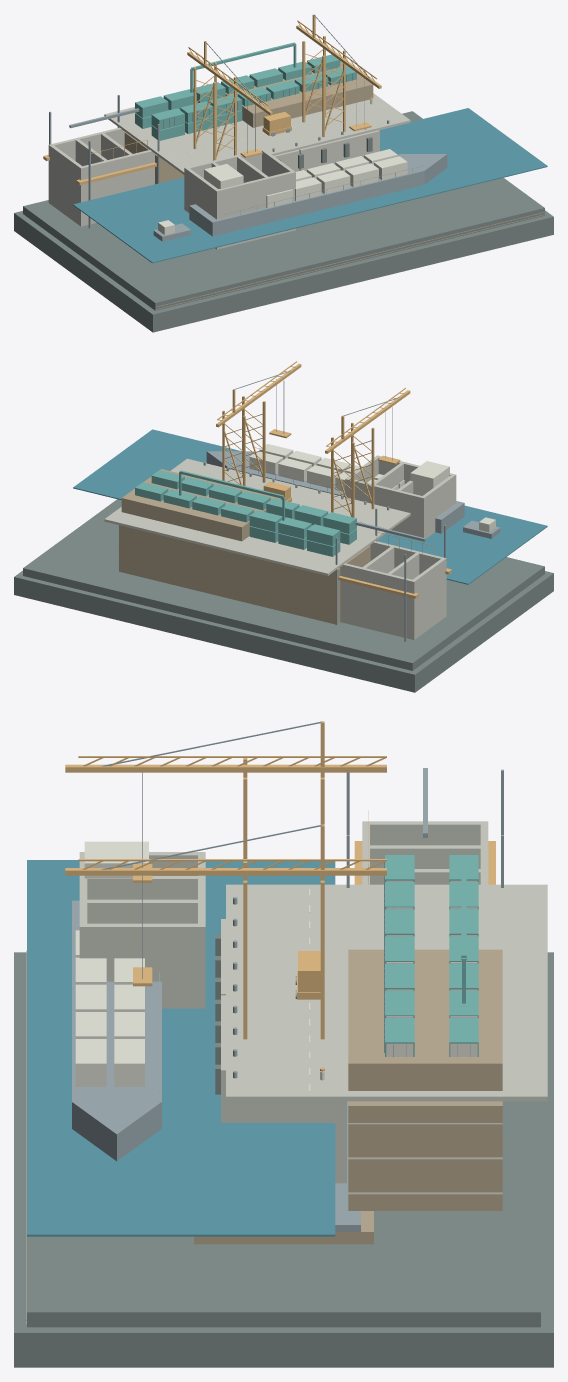
File: world-tuas.glb
3 renders of one model, top to bottom at view 1: azimuth 30°, elevation 25°; view 2: azimuth 150°, elevation 25°; view 3: azimuth 270°, elevation 25°, orthographic. The views are drawn at different scales.
Visible parts, largest first — view 1: stage-0-excavated-strata-, stage-0-water-section-water, stage-7-warm-concrete-deck, stage-8-infrastructure-teal-, stage-2-warm-concrete-fabrication, stage-8-structural-steel-, stage-7-safety-ochre-, stage-3-warm-concrete-tow, stage-8-porcelain-, stage-6-compacted-fill-preload, stage-4-warm-concrete-installed, stage-0-compacted-fill- (+6 smaller); view 2: stage-0-excavated-strata-, stage-5-compacted-fill-fill, stage-0-water-section-water, stage-7-warm-concrete-deck, stage-2-warm-concrete-fabrication, stage-8-infrastructure-teal-, stage-7-safety-ochre-, stage-3-warm-concrete-tow, stage-8-porcelain-, stage-6-compacted-fill-preload, stage-8-structural-steel-, stage-2-structural-steel- (+3 smaller); view 3: stage-0-excavated-strata-, stage-0-water-section-water, stage-7-warm-concrete-deck, stage-5-compacted-fill-fill, stage-6-compacted-fill-preload, stage-3-warm-concrete-tow, stage-8-porcelain-, stage-7-safety-ochre-, stage-8-infrastructure-teal-, stage-8-structural-steel-, stage-2-warm-concrete-fabrication, stage-4-warm-concrete-installed (+8 smaller).
Part boxes in pixels (left/top/right/bottom): stage-0-excavated-strata-: left=14, top=111, right=553, bottom=332; stage-0-water-section-water: left=73, top=108, right=547, bottom=263; stage-7-warm-concrete-deck: left=104, top=93, right=410, bottom=174; stage-8-infrastructure-teal-: left=135, top=54, right=356, bottom=140; stage-2-warm-concrete-fabrication: left=48, top=127, right=155, bottom=226; stage-8-structural-steel-: left=163, top=73, right=447, bottom=236; stage-7-safety-ochre-: left=187, top=14, right=381, bottom=160; stage-3-warm-concrete-tow: left=184, top=148, right=295, bottom=249; stage-8-porcelain-: left=204, top=99, right=407, bottom=208; stage-6-compacted-fill-preload: left=220, top=61, right=373, bottom=127; stage-4-warm-concrete-installed: left=274, top=130, right=379, bottom=171; stage-0-compacted-fill-: left=155, top=212, right=544, bottom=309; stage-0-excavated-strata-: left=14, top=499, right=553, bottom=692; stage-5-compacted-fill-fill: left=119, top=525, right=370, bottom=624; stage-0-water-section-water: left=73, top=429, right=547, bottom=584; stage-7-warm-concrete-deck: left=104, top=458, right=410, bottom=575; stage-2-warm-concrete-fabrication: left=339, top=541, right=446, bottom=639; stage-8-infrastructure-teal-: left=135, top=470, right=356, bottom=556; stage-7-safety-ochre-: left=216, top=361, right=410, bottom=517; stage-3-warm-concrete-tow: left=345, top=455, right=456, bottom=538; stage-8-porcelain-: left=249, top=444, right=449, bottom=495; stage-6-compacted-fill-preload: left=121, top=469, right=281, bottom=541; stage-8-structural-steel-: left=206, top=447, right=464, bottom=533; stage-2-structural-steel-: left=335, top=508, right=445, bottom=641; stage-0-excavated-strata-: left=14, top=952, right=553, bottom=1367; stage-0-water-section-water: left=27, top=860, right=335, bottom=1236; stage-7-warm-concrete-deck: left=226, top=884, right=547, bottom=1101; stage-5-compacted-fill-fill: left=348, top=1101, right=502, bottom=1210; stage-6-compacted-fill-preload: left=348, top=949, right=502, bottom=1090; stage-3-warm-concrete-tow: left=79, top=852, right=205, bottom=1008; stage-8-porcelain-: left=75, top=841, right=477, bottom=1086; stage-7-safety-ochre-: left=65, top=721, right=386, bottom=1039; stage-8-infrastructure-teal-: left=385, top=855, right=478, bottom=1056; stage-8-structural-steel-: left=72, top=862, right=470, bottom=1161; stage-2-warm-concrete-fabrication: left=362, top=821, right=488, bottom=884; stage-4-warm-concrete-installed: left=221, top=919, right=346, bottom=1183.
Size of the model in its own units: 70 by 33.54 by 42.
